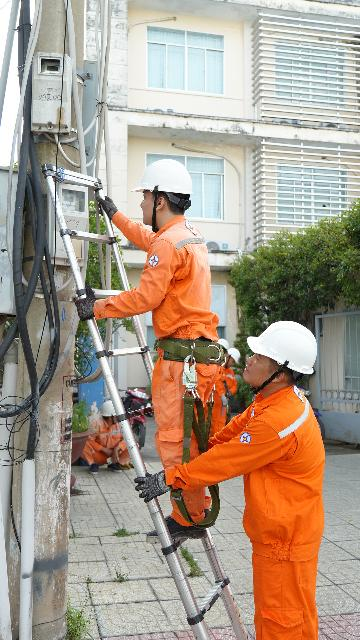gloves: (125, 469, 181, 504), (68, 279, 101, 323), (92, 194, 121, 222)
harness: (134, 323, 227, 373)
helmet: (248, 307, 339, 380), (123, 141, 200, 212)
shoes: (139, 507, 215, 554)
